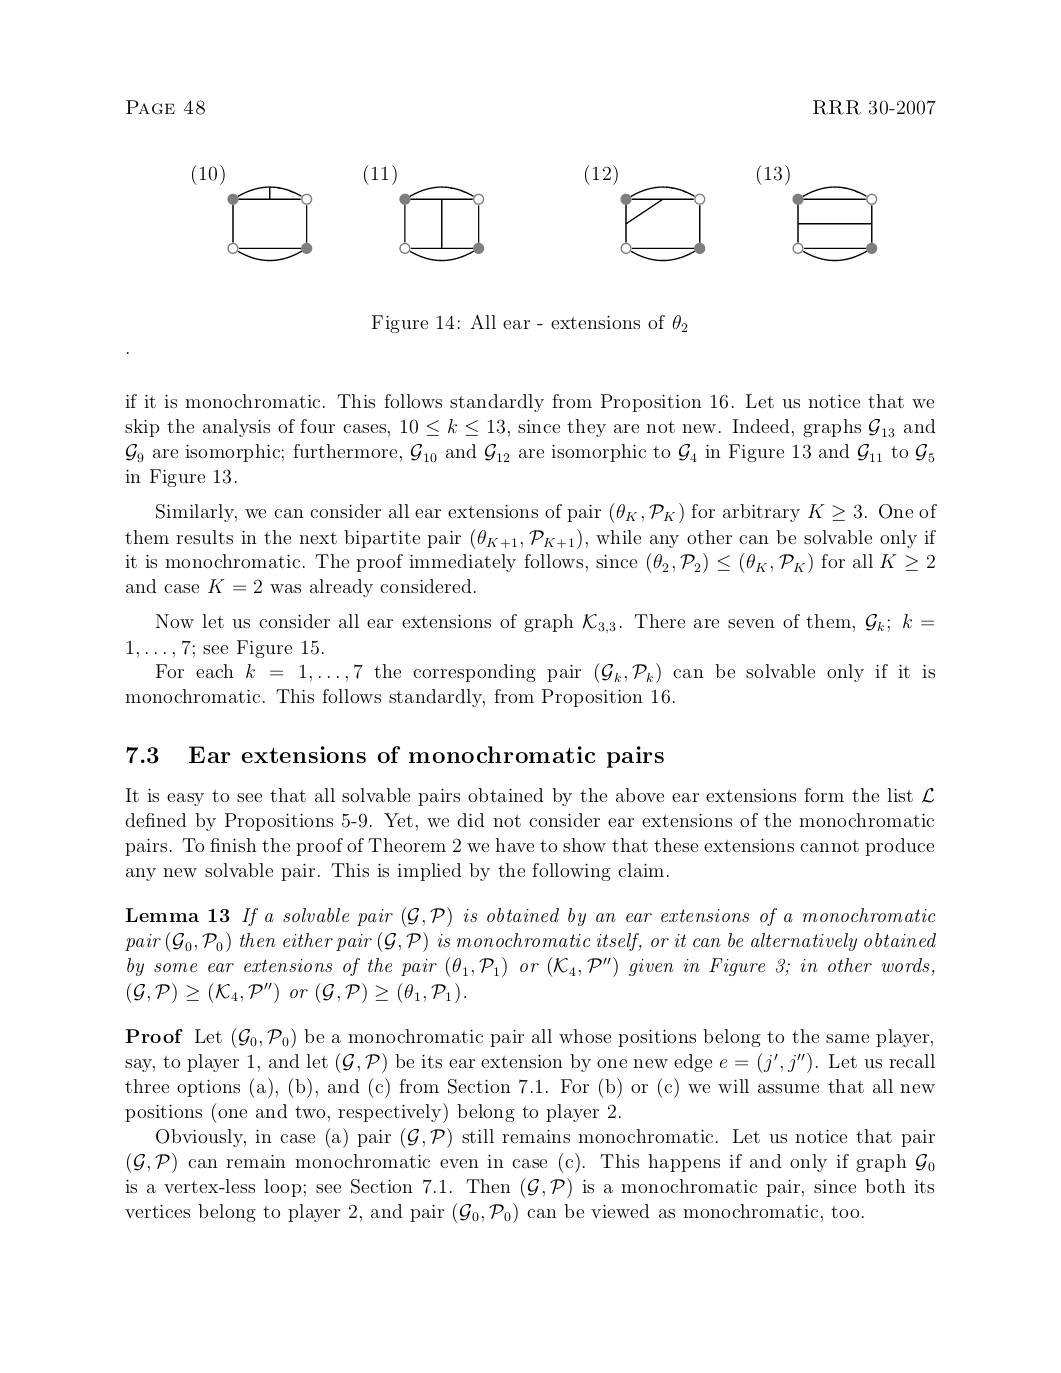figure: (192, 164, 312, 262), (585, 164, 705, 262), (757, 164, 877, 262), (364, 164, 484, 262)
formula: (127, 981, 466, 1003)
